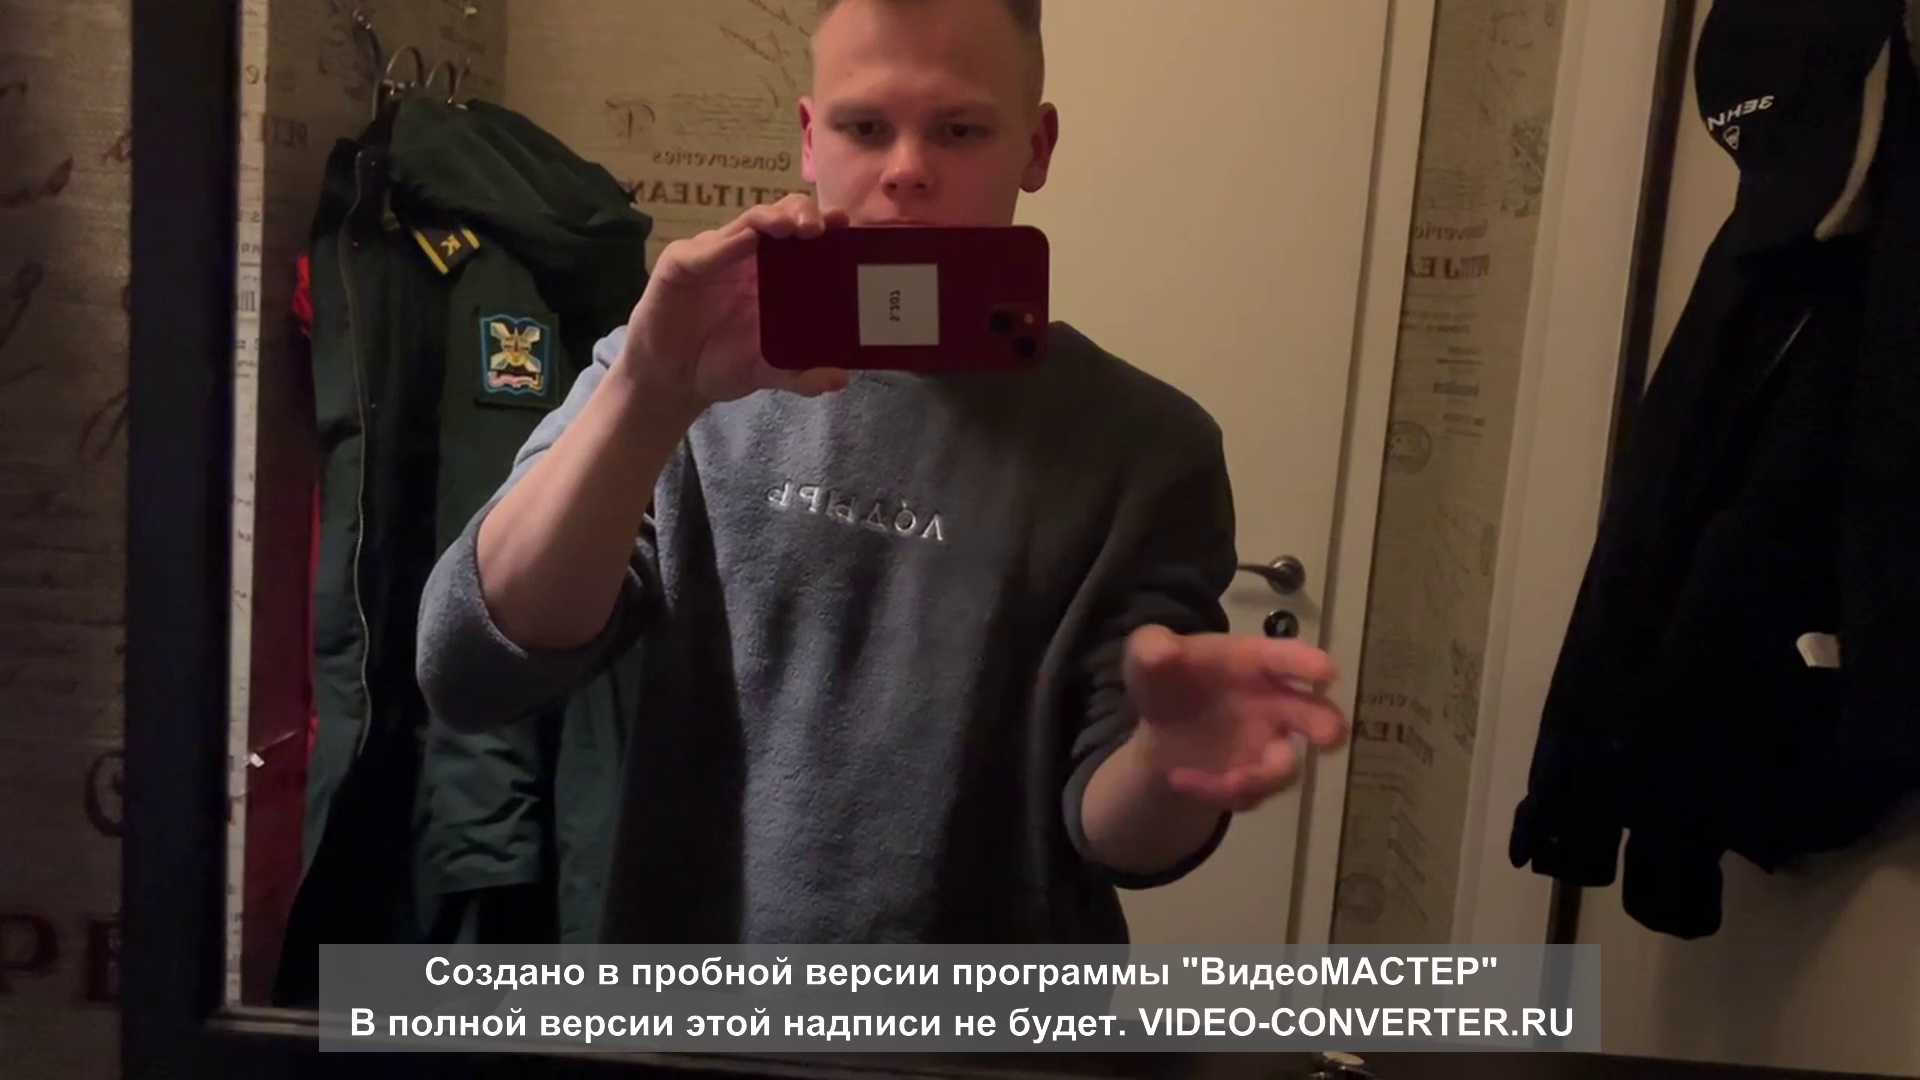Ладонь: (1121, 622, 1348, 812)
